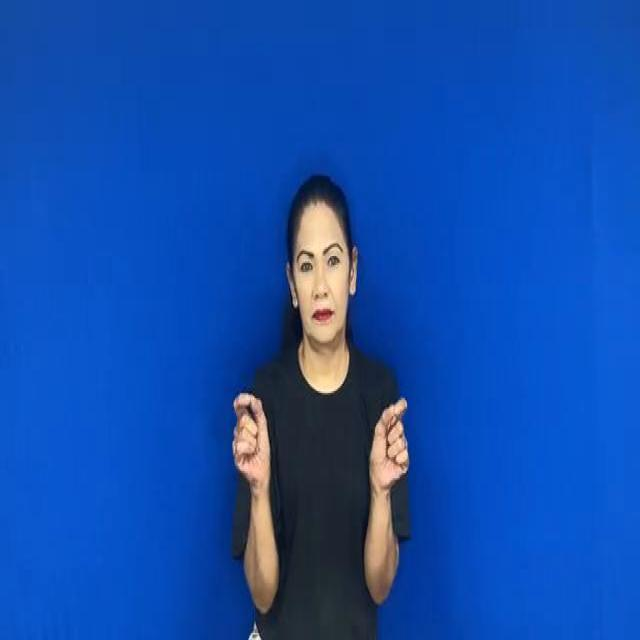crab: (228, 388, 278, 496), (364, 390, 414, 496)
